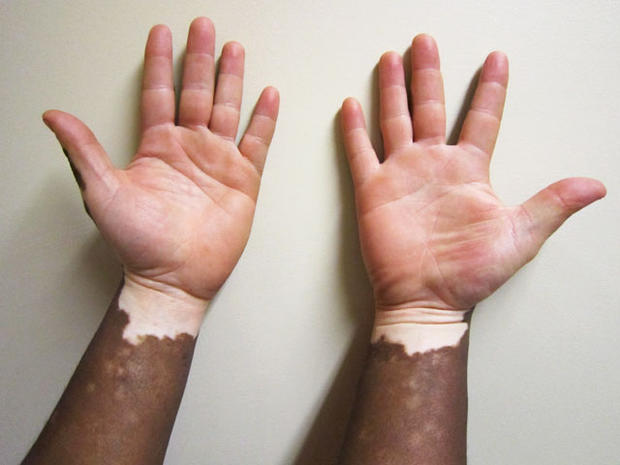Diseased: (95, 228, 472, 432)
